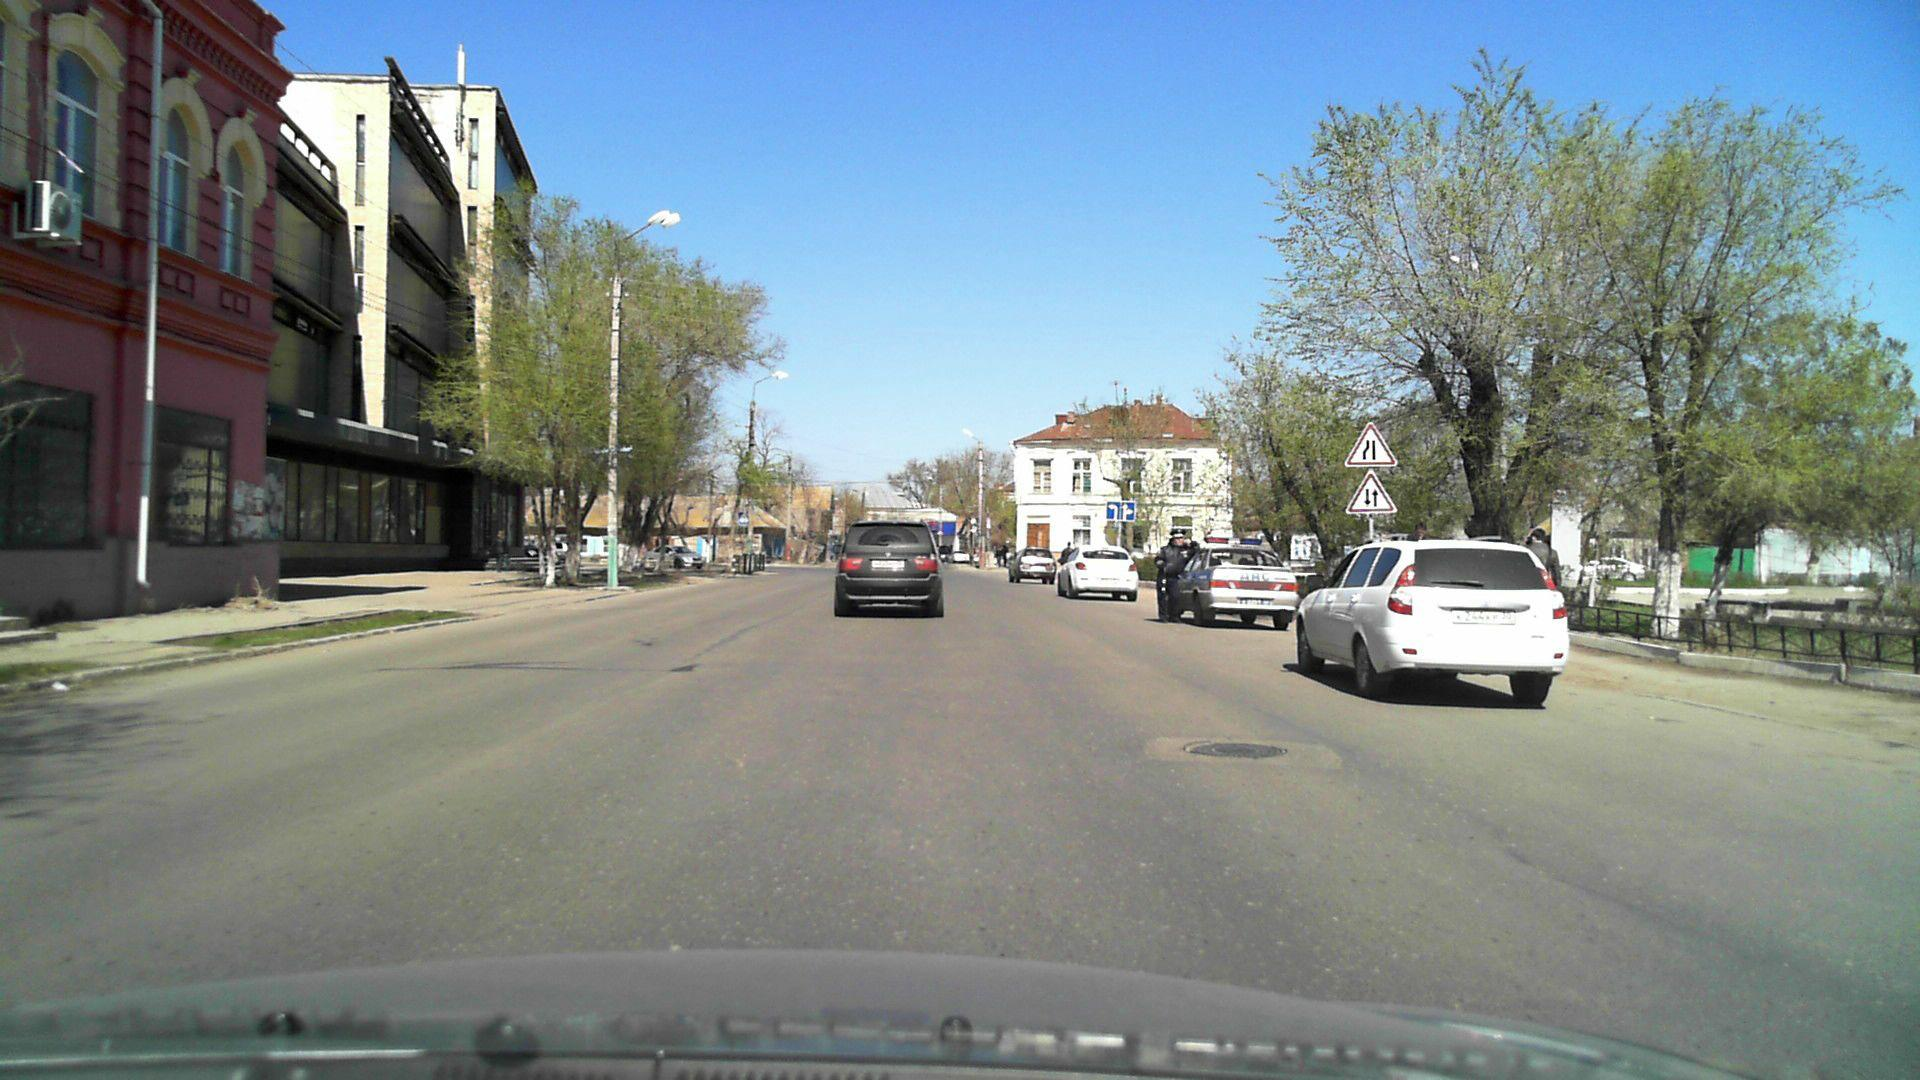1_20_3: (1341, 422, 1399, 468)
1_21: (1348, 469, 1399, 516)
5_15_1: (1102, 498, 1138, 524)
